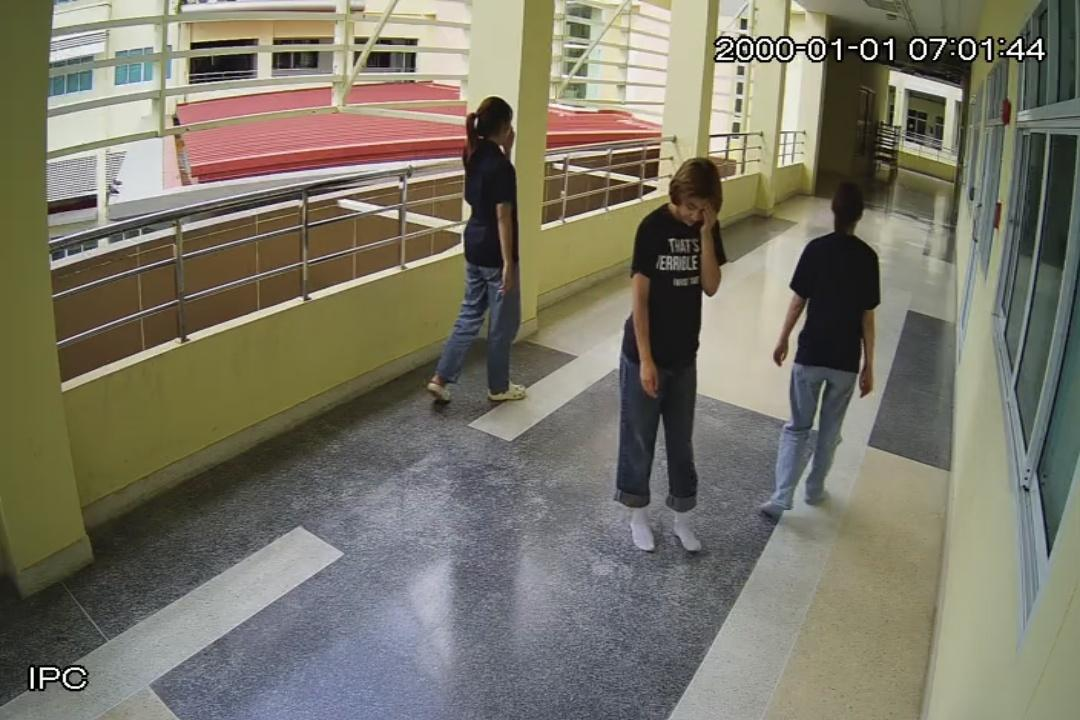normal: (614, 155, 729, 554), (758, 182, 880, 517), (422, 94, 529, 416)
